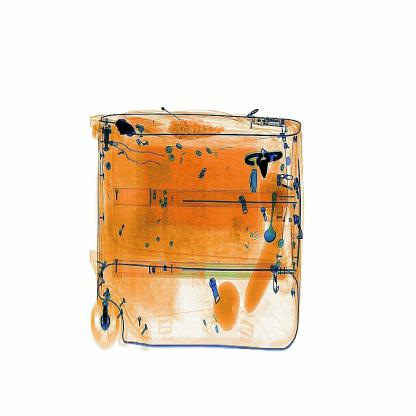gun: (236, 136, 296, 193)
